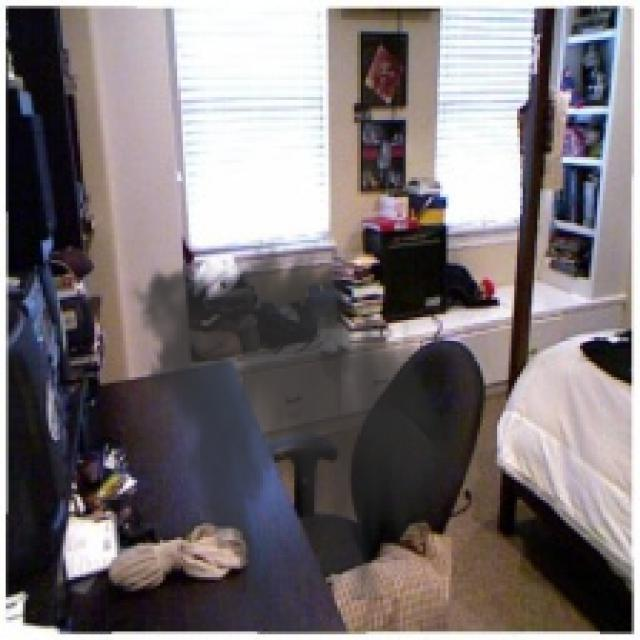Smoke: (122, 235, 474, 600)
